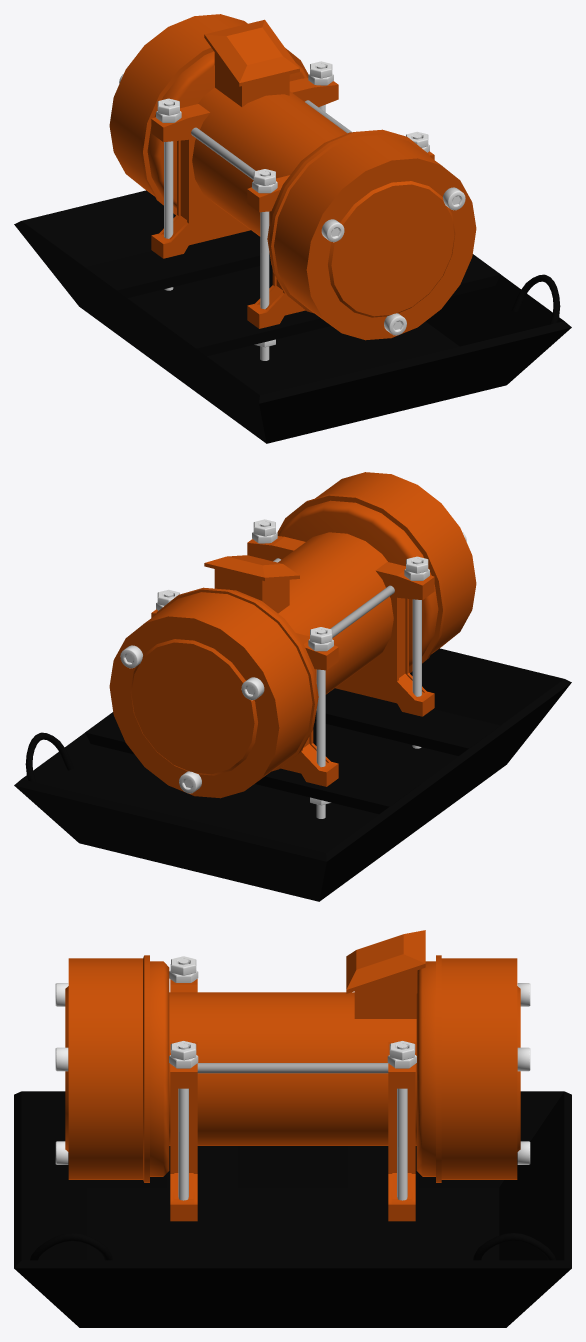
The model's file is 平板振捣器.fbx.
The picture shows the model from 3 angles, top to bottom: view 1: azimuth 30°, elevation 25°; view 2: azimuth 150°, elevation 25°; view 3: azimuth 270°, elevation 25°; orthographic projection. The views are drawn at different scales.
Parts seen in each view (by area): view 1: pasted__pingmianzhendaoqi; view 2: pasted__pingmianzhendaoqi; view 3: pasted__pingmianzhendaoqi.
Boxes of the visible parts, box(x1,y1,x2,y2) form: pasted__pingmianzhendaoqi: box(14, 14, 571, 443); pasted__pingmianzhendaoqi: box(14, 472, 571, 901); pasted__pingmianzhendaoqi: box(14, 930, 571, 1327).
Size of the model in its own units: 52.1 by 43.69 by 69.67.
